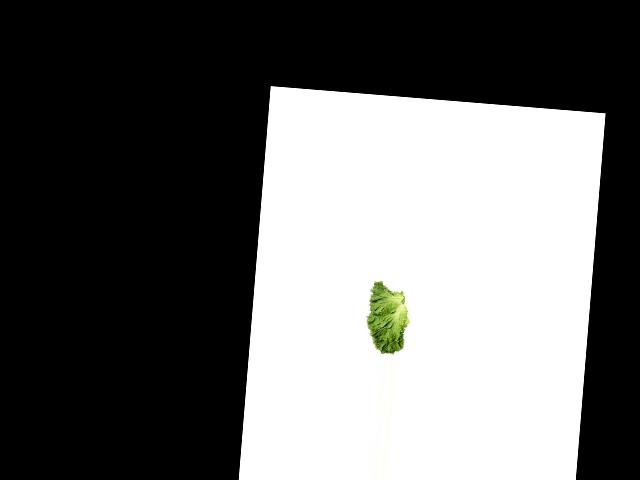lettuce: (358, 280, 414, 356)
